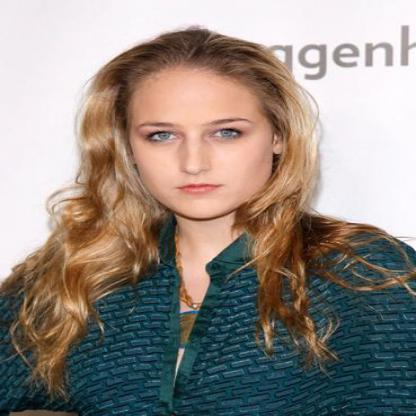long-hair: (35, 222, 360, 259)
